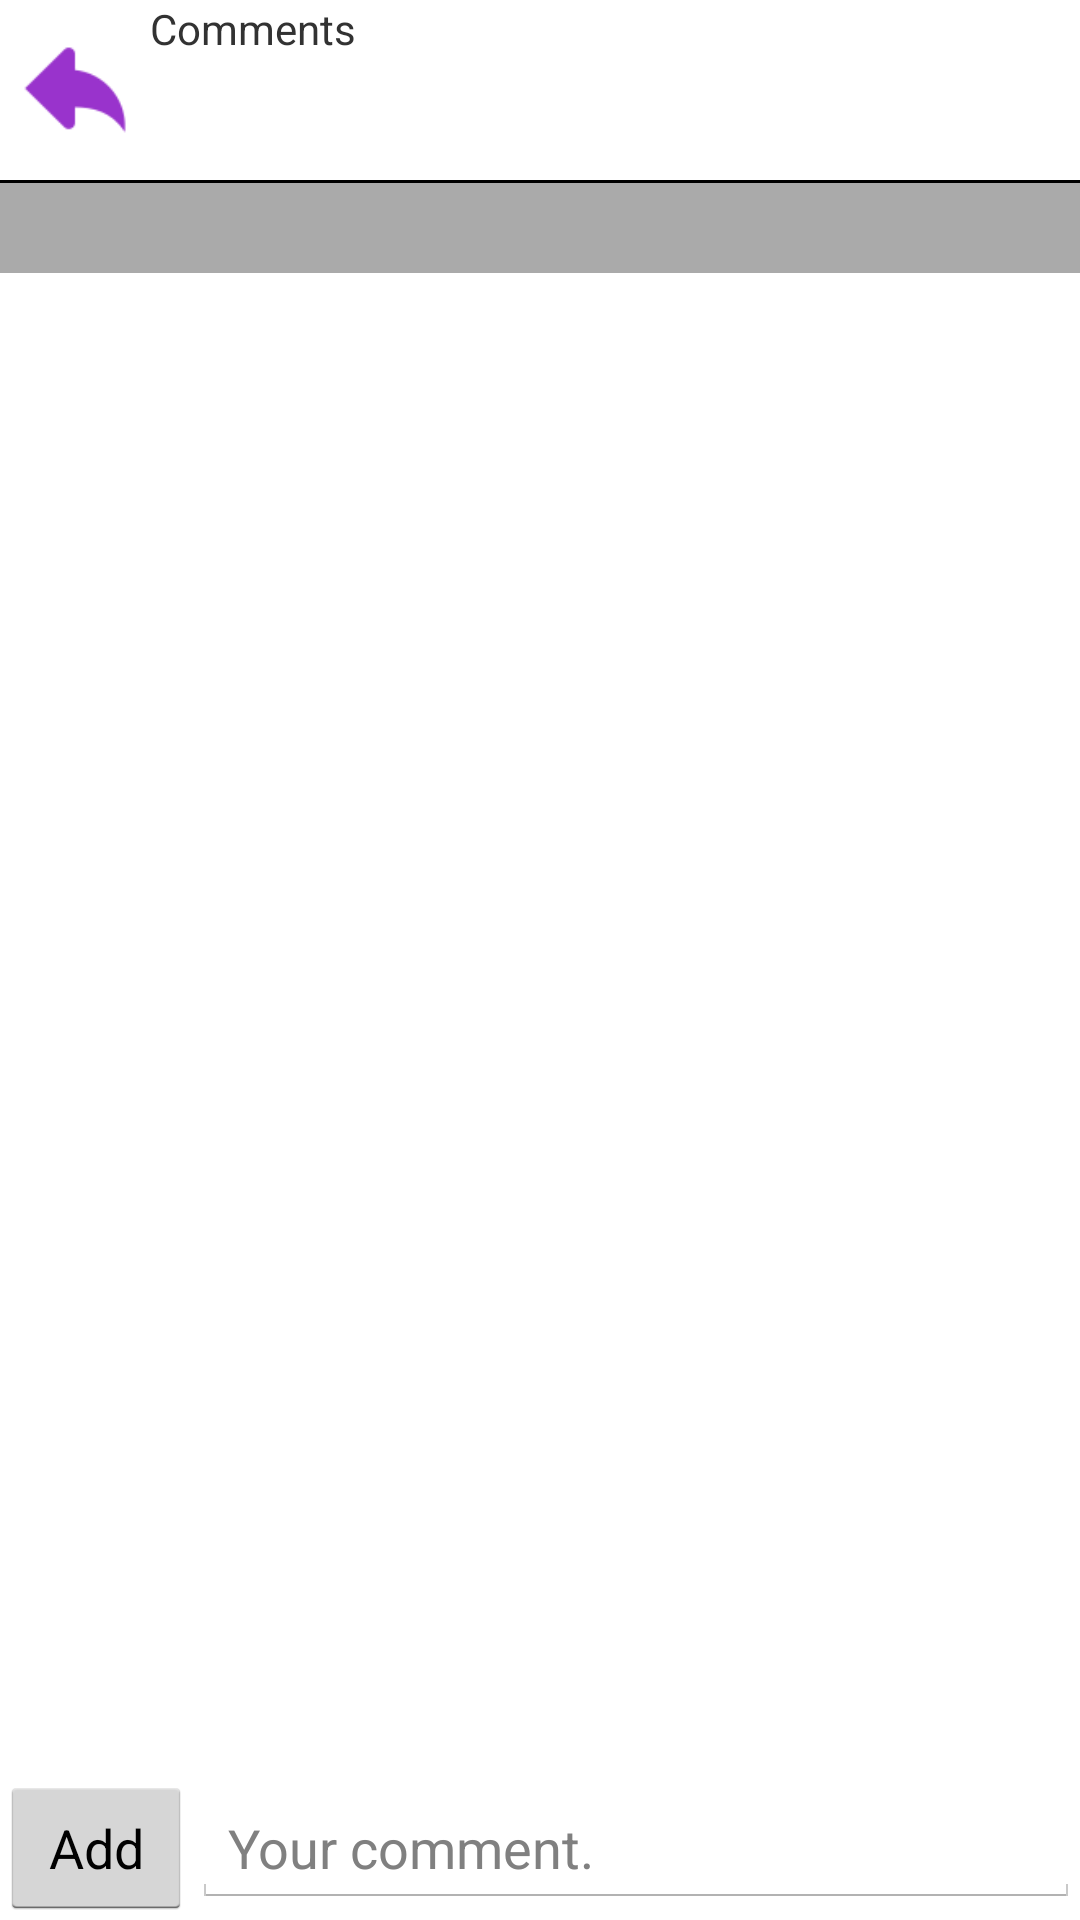

Icons on this 1080*1920 Android screen, each with the point to tap as point (x, y):
backbutton: point (75, 89)
